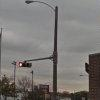Traffic light: (10, 52, 46, 77)
